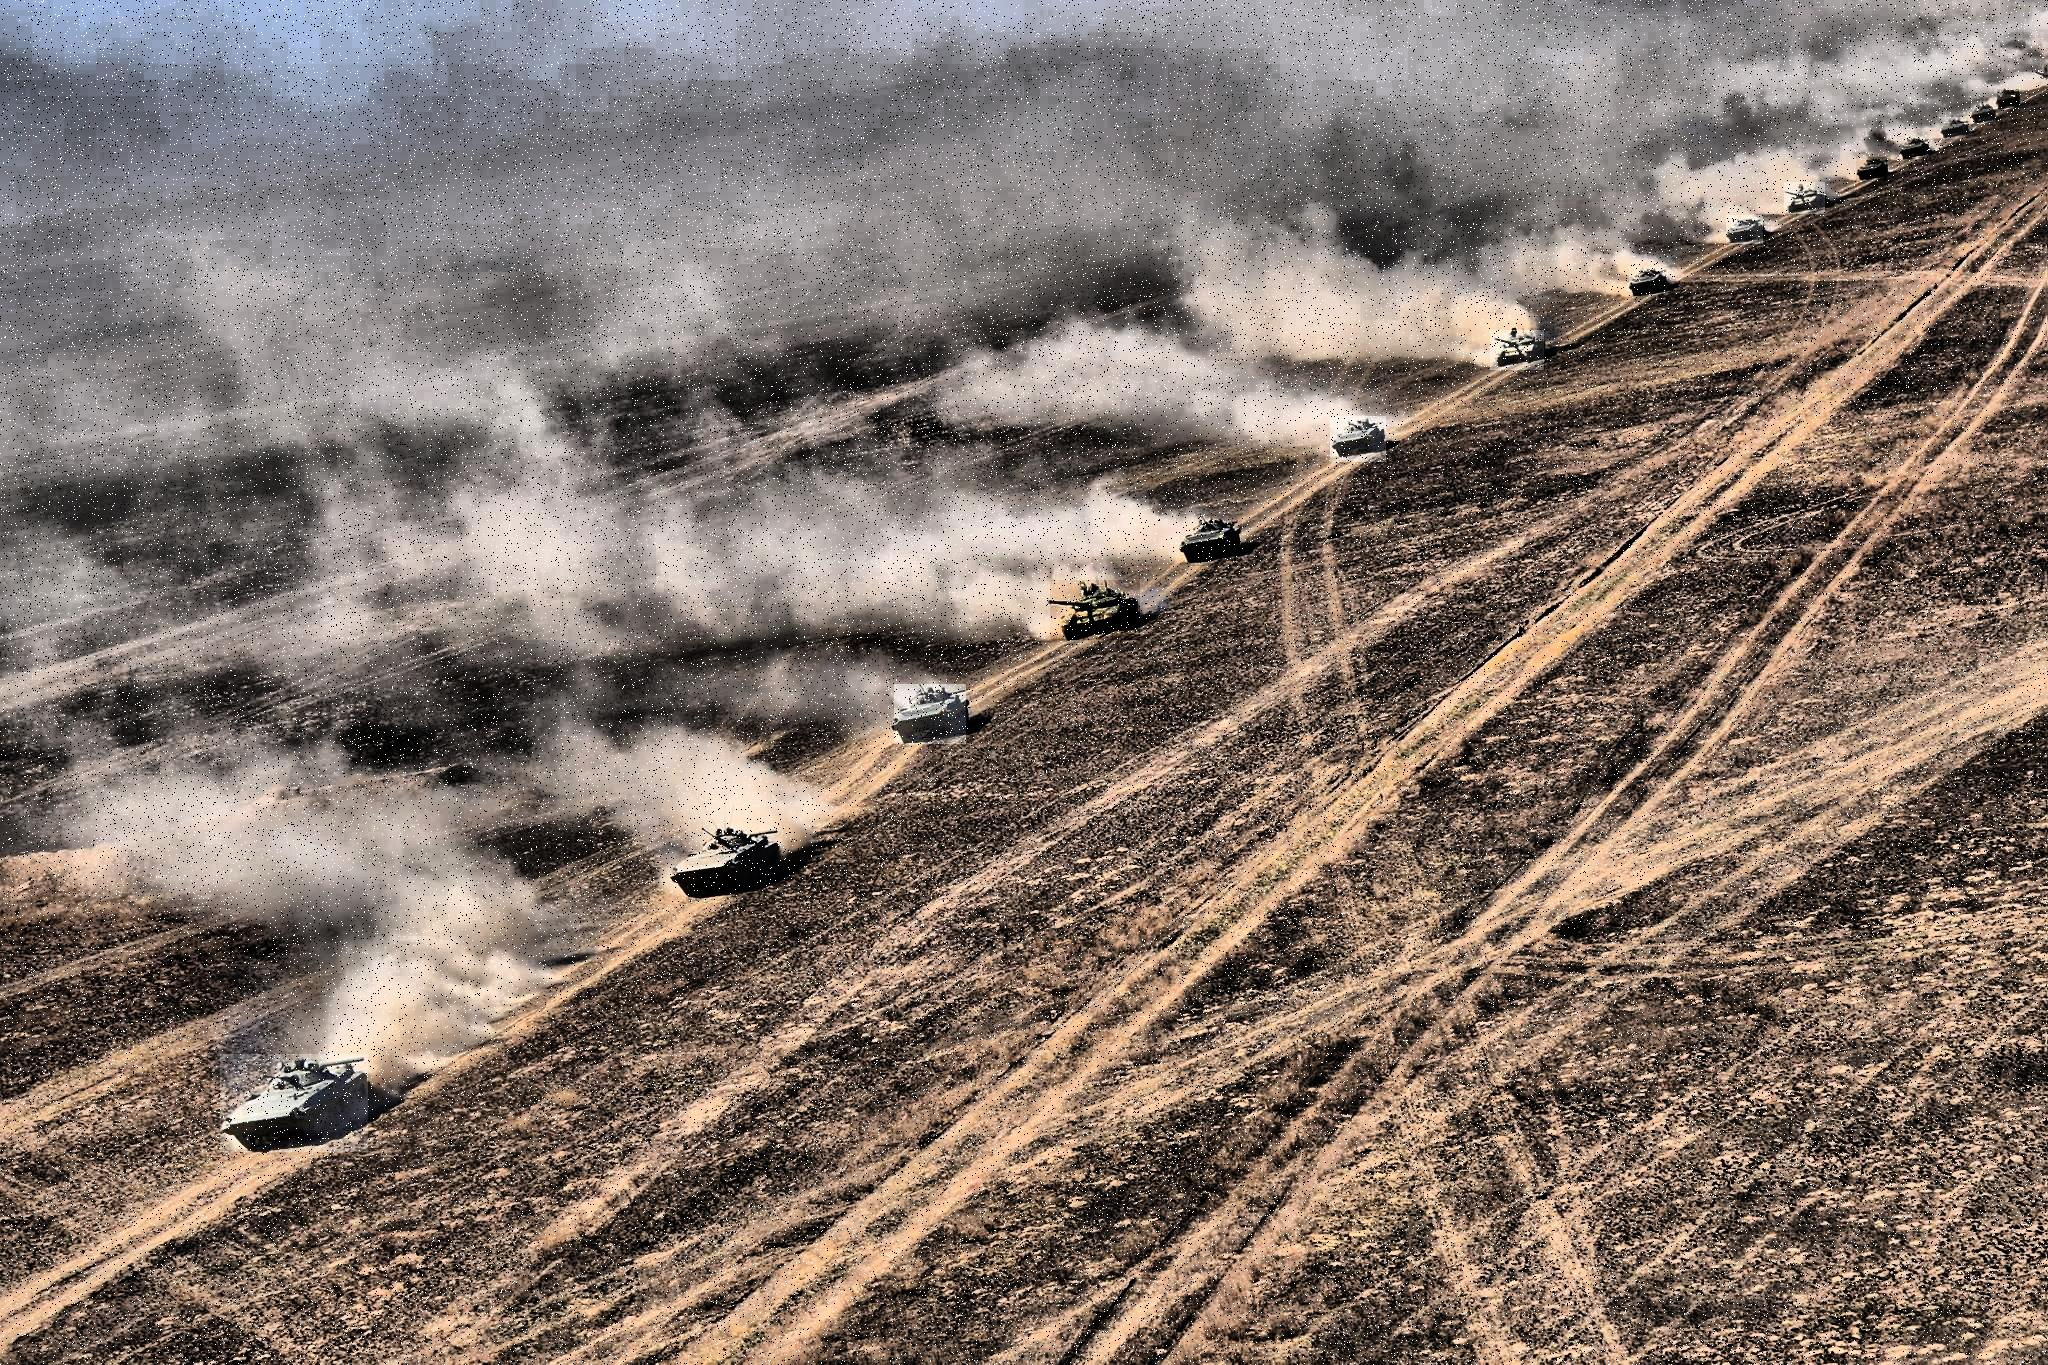military-vehicle: (219, 1054, 368, 1152), (670, 824, 780, 894), (1051, 580, 1140, 640), (894, 684, 965, 743), (1180, 513, 1243, 567), (1329, 416, 1386, 462), (1491, 331, 1544, 370), (1785, 183, 1826, 215), (1629, 268, 1669, 296), (1727, 215, 1763, 244), (1856, 157, 1887, 180), (1900, 137, 1929, 158), (1972, 101, 1996, 123), (1941, 117, 1967, 139), (1998, 90, 2019, 108)
